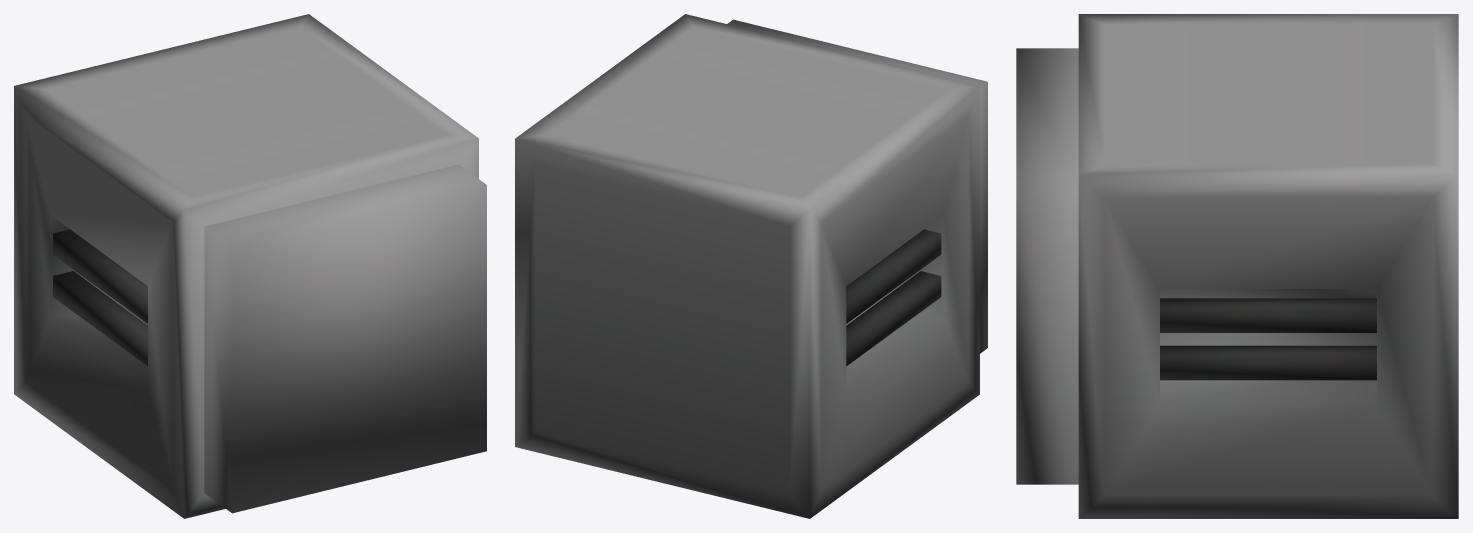
Rendered from TubulationConnectionS2Eng.fbx.
The picture shows the model from 3 angles, left to right: view 1: azimuth 30°, elevation 25°; view 2: azimuth 150°, elevation 25°; view 3: azimuth 270°, elevation 25°; orthographic projection. The views are drawn at different scales.
Visible parts, largest first — view 1: TubulationConnectionS2Eng; view 2: TubulationConnectionS2Eng; view 3: TubulationConnectionS2Eng.
Boxes of the visible parts, left/top/right/bottom form: TubulationConnectionS2Eng: left=14, top=14, right=486, bottom=518; TubulationConnectionS2Eng: left=515, top=14, right=987, bottom=518; TubulationConnectionS2Eng: left=1016, top=14, right=1458, bottom=518.
Size of the model in its own units: 60 by 60 by 69.8.
Materials: 1 (1 with a texture image).
